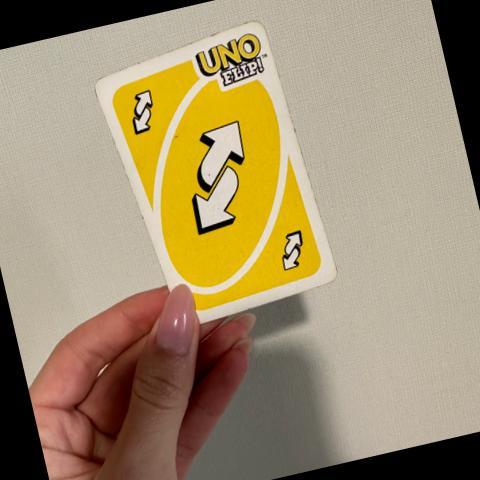lyellowrevers-20: (108, 74, 176, 142)
